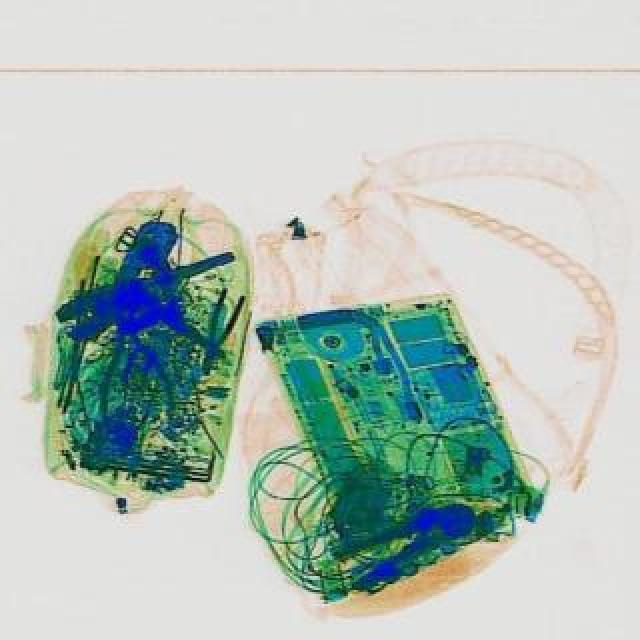wrench: (52, 252, 258, 382), (330, 484, 490, 596), (106, 214, 208, 346), (90, 292, 182, 422), (196, 284, 252, 378)
